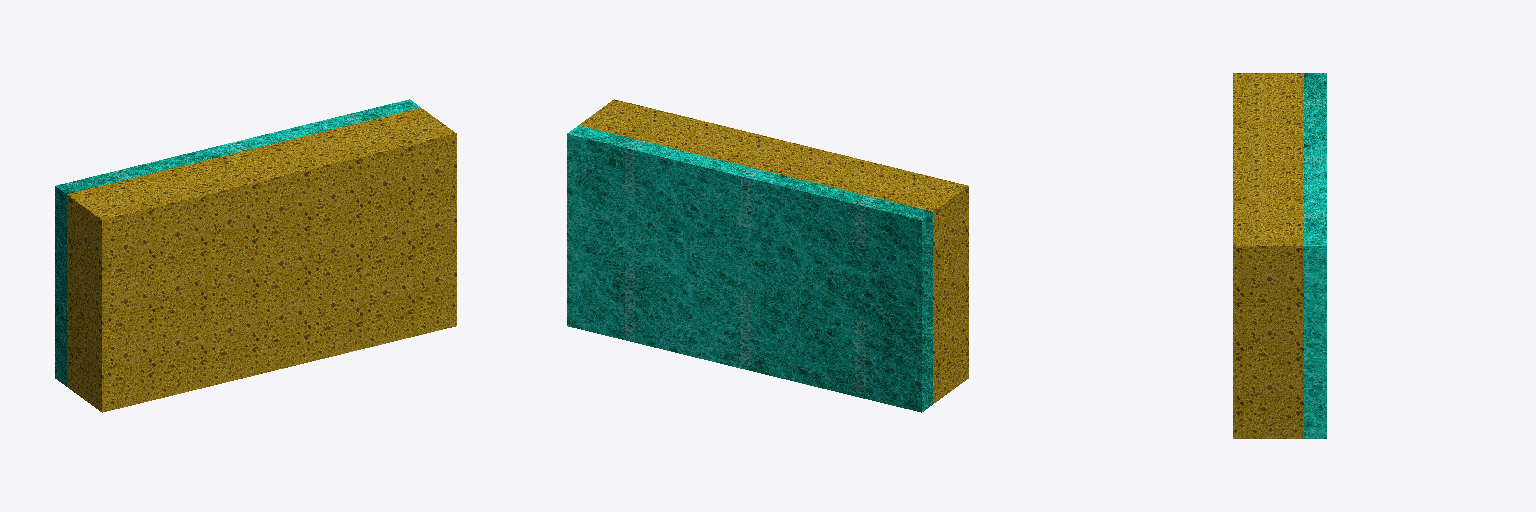
The picture shows the model from 3 angles: view 1: azimuth 30°, elevation 25°; view 2: azimuth 150°, elevation 25°; view 3: azimuth 270°, elevation 25°; orthographic projection.
Visible parts, largest first — view 1: Cube; view 2: Cube; view 3: Cube.
Part boxes in pixels (x1,y1,x2,y2): Cube: (55,99,456,412); Cube: (567,99,968,412); Cube: (1233,73,1326,438).
Size of the model in its own units: 11.49 by 5.95 by 2.65.
Materials: 2 (2 with a texture image).